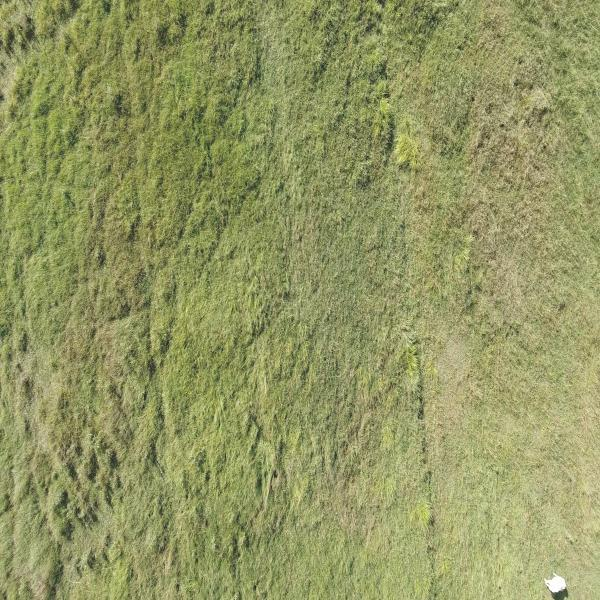sheep: (544, 571, 567, 595)
